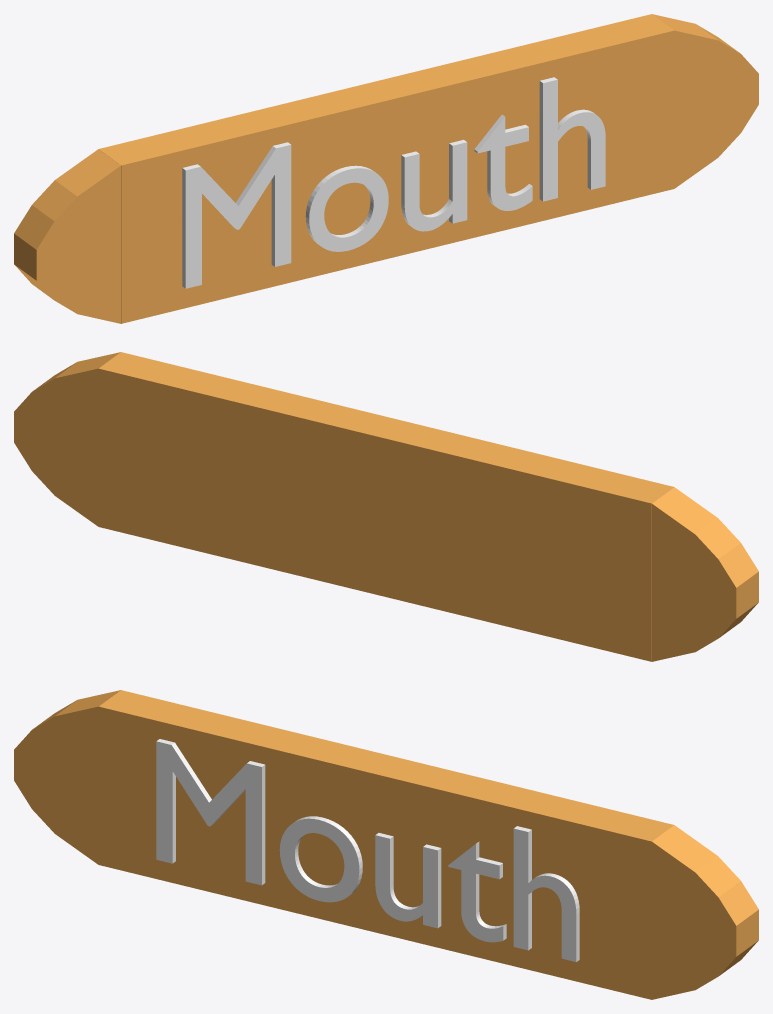
Rendered from TxtMouth.fbx.
3 views of the same model, one above another, from view 1: azimuth 30°, elevation 25°; view 2: azimuth 150°, elevation 25°; view 3: azimuth 330°, elevation 25° (orthographic).
Visible parts, largest first — view 1: TagContainer.031, Text.023; view 2: TagContainer.031; view 3: TagContainer.031, Text.023.
Part boxes in pixels (x1,y1,x2,y2): TagContainer.031: (14, 14, 758, 323); Text.023: (182, 77, 605, 288); TagContainer.031: (14, 352, 758, 661); TagContainer.031: (14, 690, 758, 999); Text.023: (156, 739, 579, 961).
Size of the model in its own units: 197 by 41.3 by 12.28.
